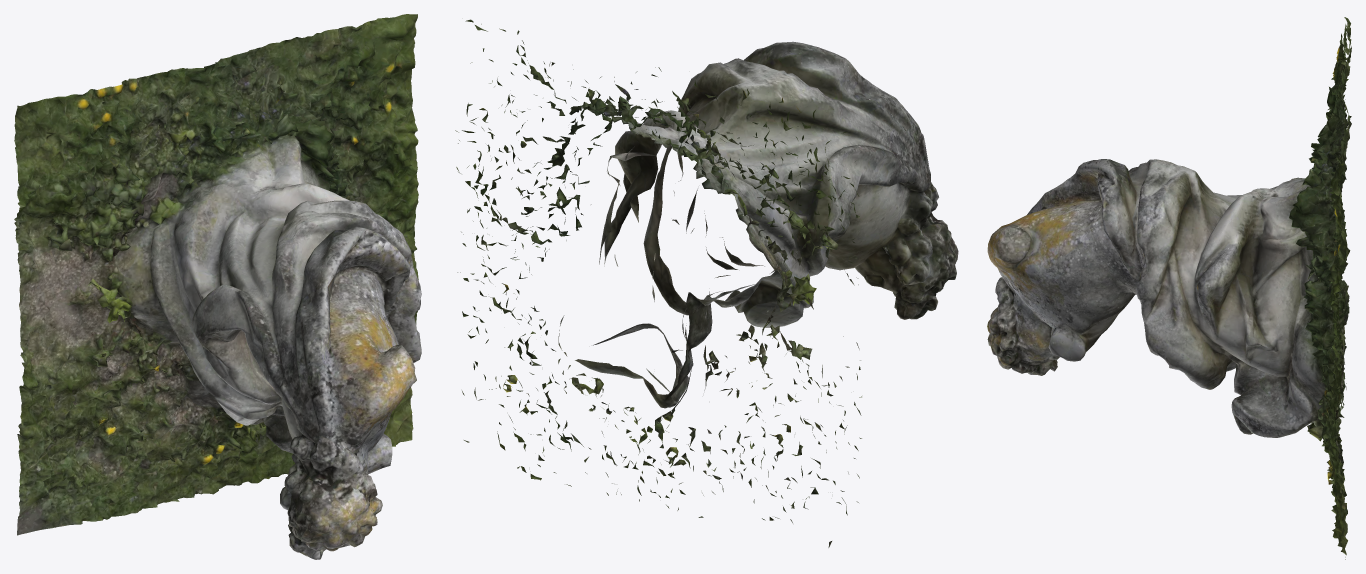
The model's file is statue.glb.
3 views of the same model, side by side, from view 1: azimuth 30°, elevation 25°; view 2: azimuth 150°, elevation 25°; view 3: azimuth 270°, elevation 25° (orthographic). The views are drawn at different scales.
Visible parts, largest first — view 1: socha_slavkov_01_30k; view 2: socha_slavkov_01_30k; view 3: socha_slavkov_01_30k.
Part boxes in pixels (bbox=[...]): socha_slavkov_01_30k: bbox=[14, 14, 421, 559]; socha_slavkov_01_30k: bbox=[455, 19, 958, 547]; socha_slavkov_01_30k: bbox=[987, 17, 1351, 559].
Size of the model in its own units: 20.28 by 21.14 by 18.53.
Materials: 1 (1 with a texture image).
